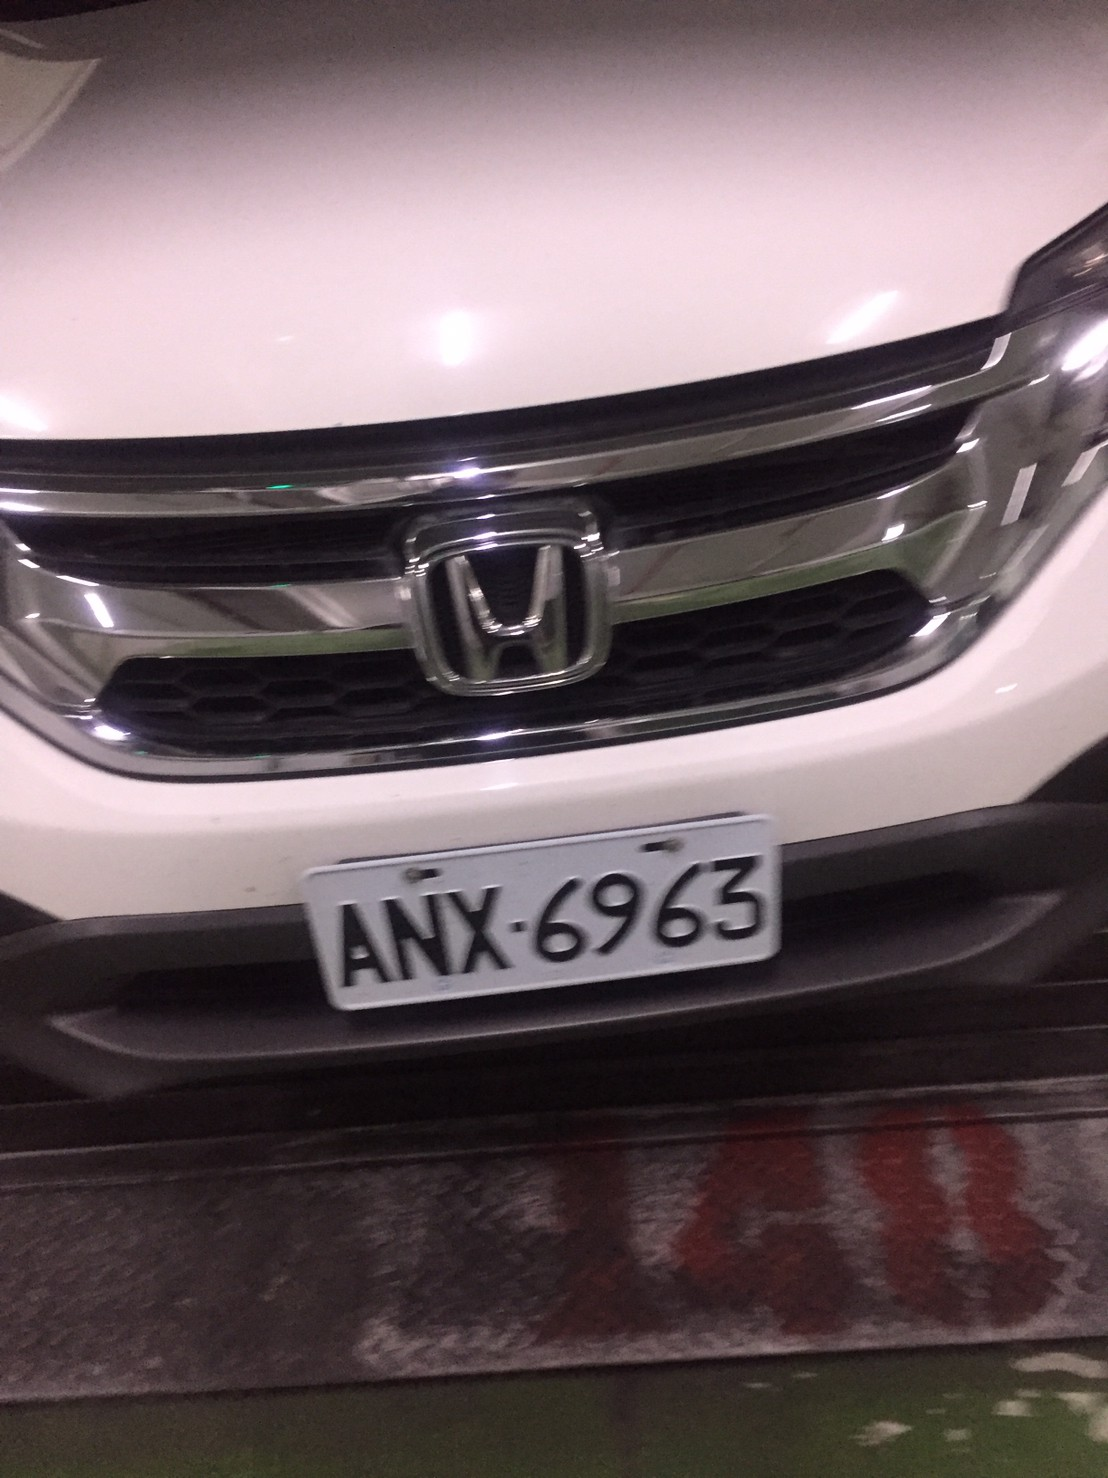LP: (304, 841, 784, 1009)
